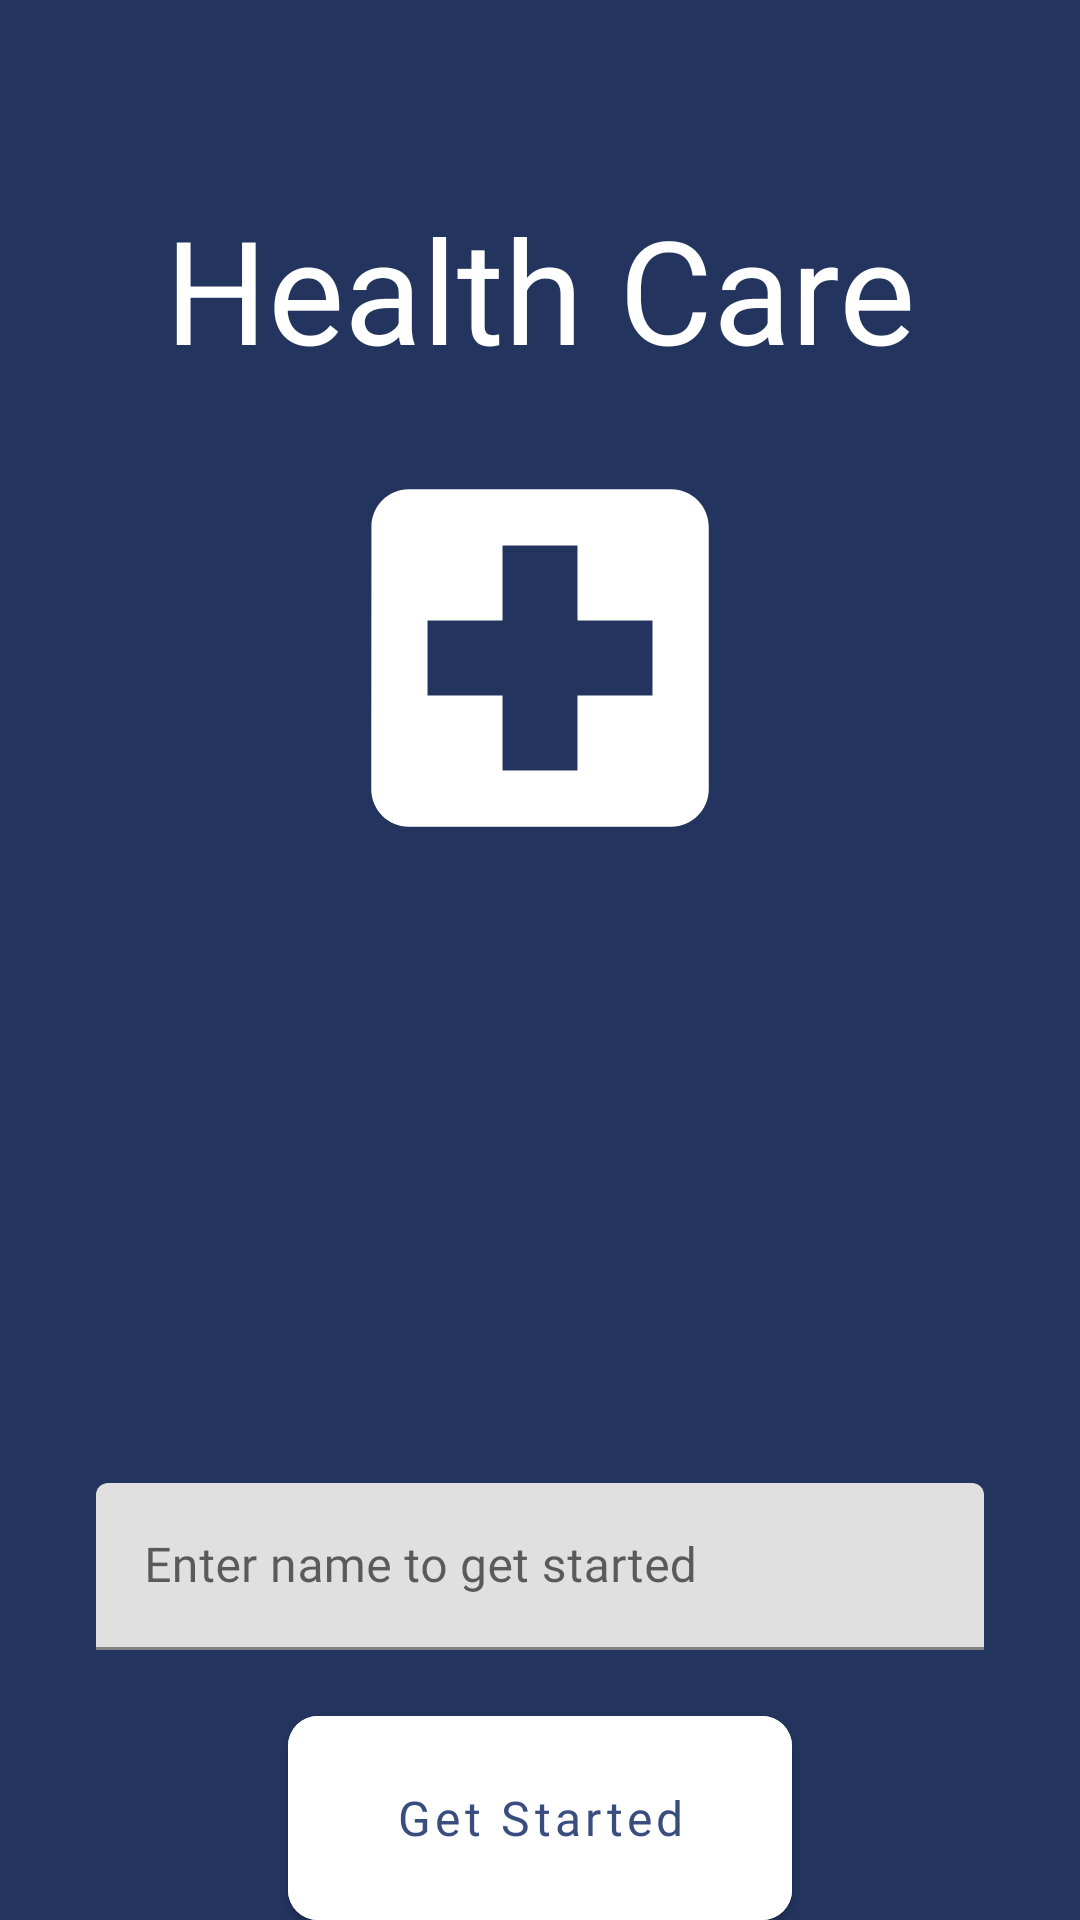

Where to tap for icons on this 1080×1920 app screen, as (x=x, y=y):
local hospital: (x=540, y=658)
